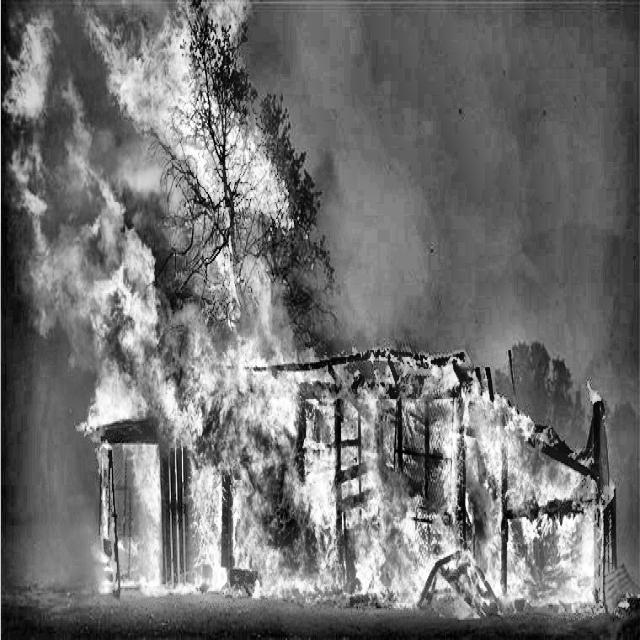fire: (2, 8, 628, 620)
